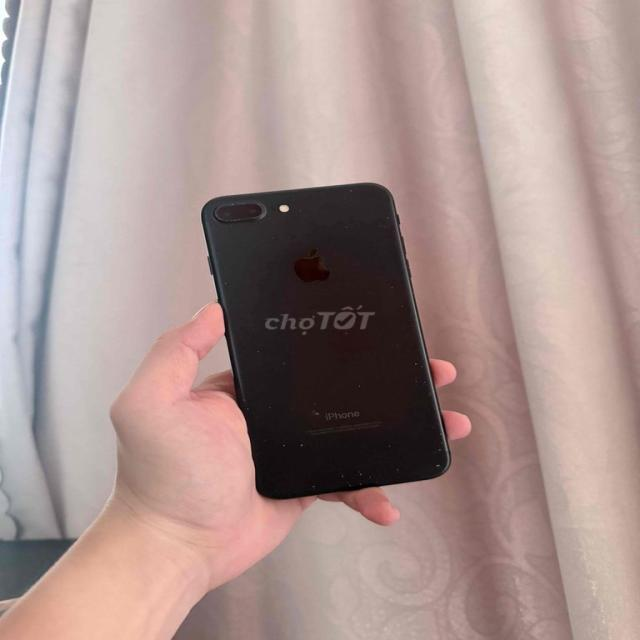gen_7_8: (187, 173, 461, 502)
scratch: (407, 354, 451, 473), (236, 393, 327, 423), (306, 466, 402, 492), (242, 346, 291, 386), (208, 199, 276, 223), (387, 280, 411, 312), (273, 437, 305, 452), (287, 194, 309, 212), (212, 272, 230, 287), (348, 376, 366, 391), (381, 213, 393, 223), (379, 439, 391, 448), (345, 188, 355, 195), (266, 234, 276, 241)
